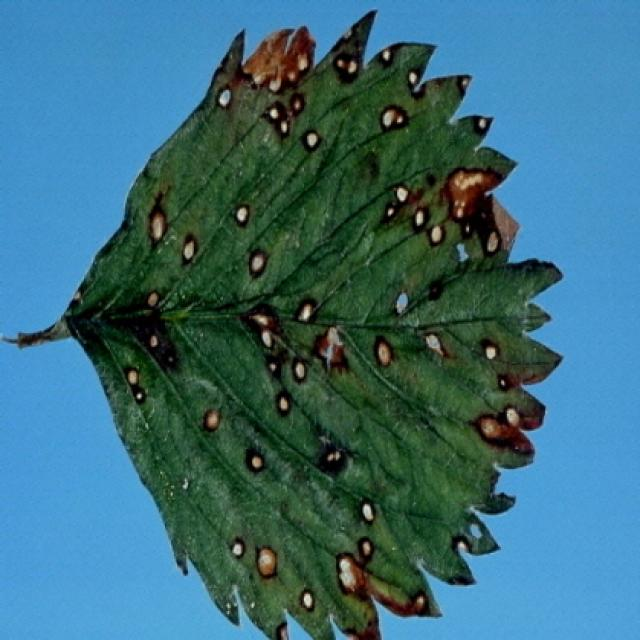Leaf Spot: (65, 7, 568, 638)
